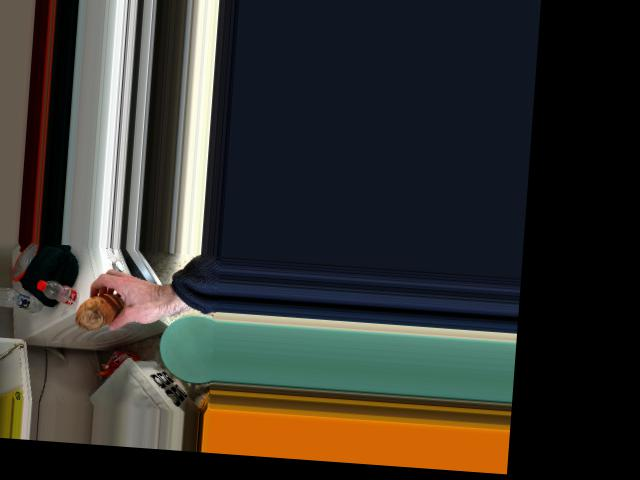sweet_potato: (74, 288, 126, 332)
